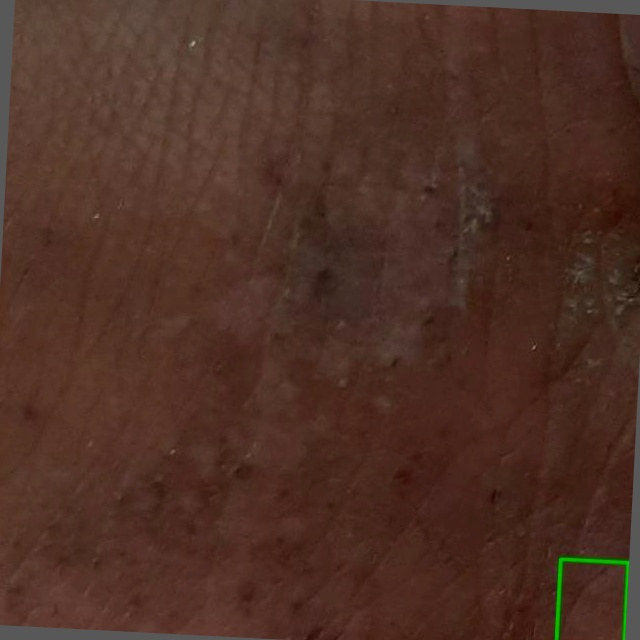Eczema: (556, 559, 628, 639)
